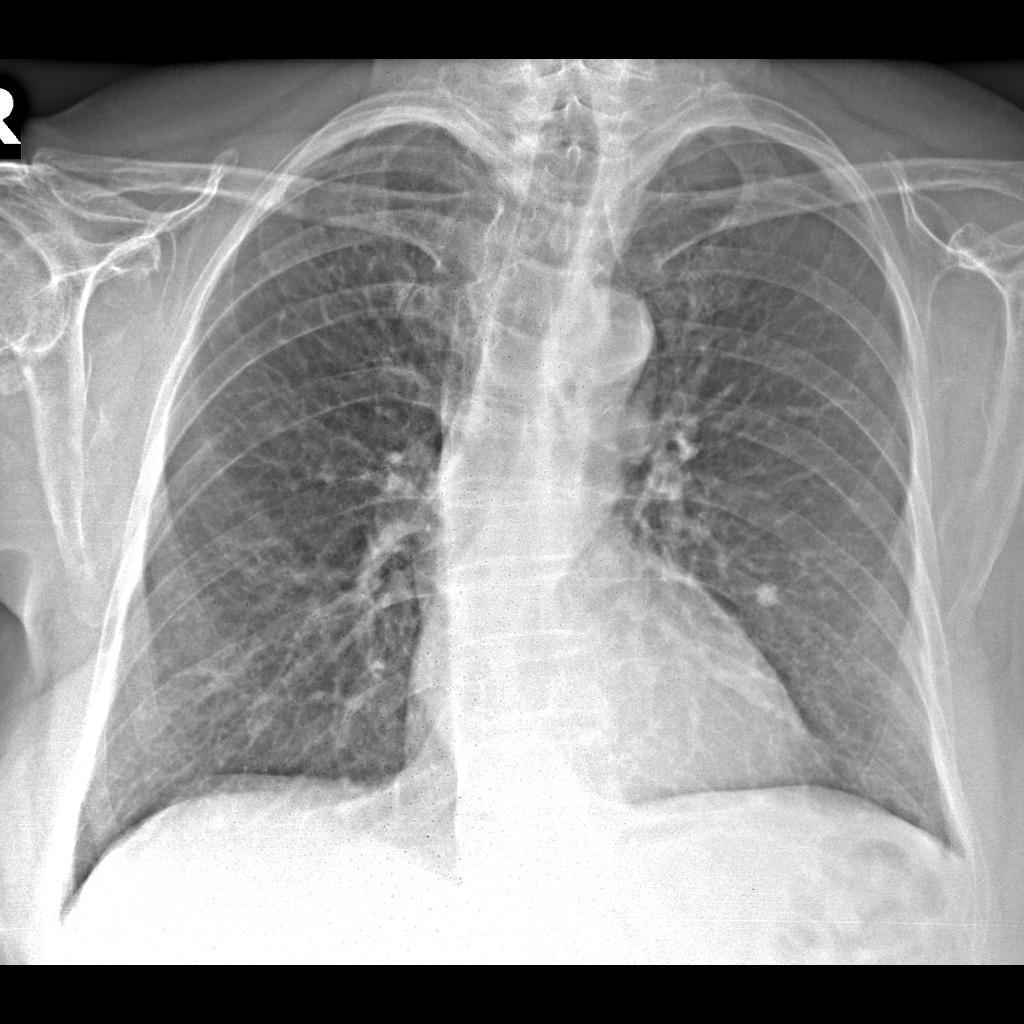Nodule: (753, 577, 784, 617)
